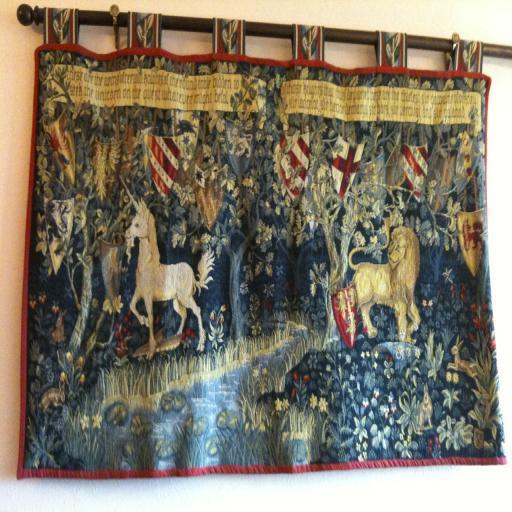Horse: (122, 196, 216, 352)
